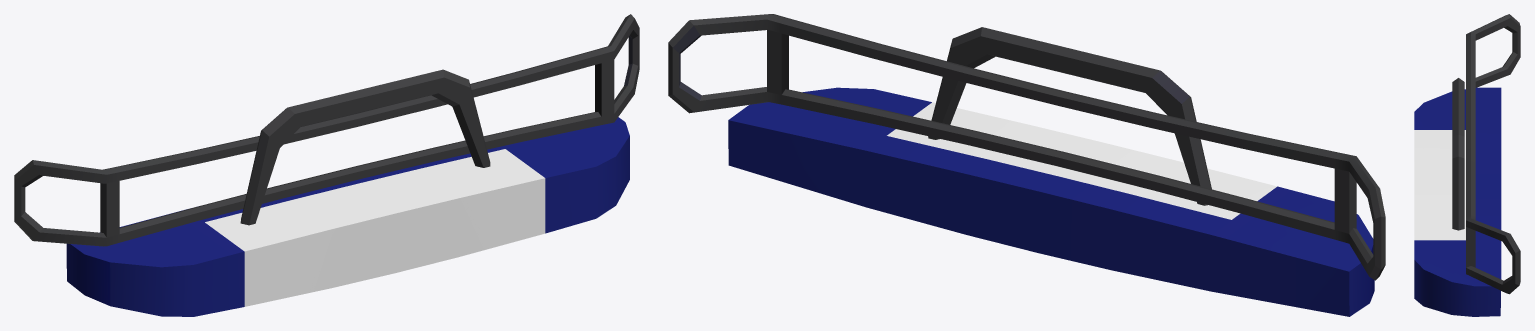
File: JeepBumper00R02.gltf
3 renders of one model, left to right at view 1: azimuth 30°, elevation 25°; view 2: azimuth 150°, elevation 25°; view 3: azimuth 270°, elevation 25°, orthographic. The views are drawn at different scales.
Visible parts, largest first — view 1: JeepBumper00R02; view 2: JeepBumper00R02; view 3: JeepBumper00R02.
Boxes of the visible parts, <box> form: JeepBumper00R02: <box>14,14,639,316</box>; JeepBumper00R02: <box>668,14,1385,316</box>; JeepBumper00R02: <box>1414,14,1520,316</box>.
Bounding box in the file's own units: 0.1903 × 0.0476 × 0.0374.
